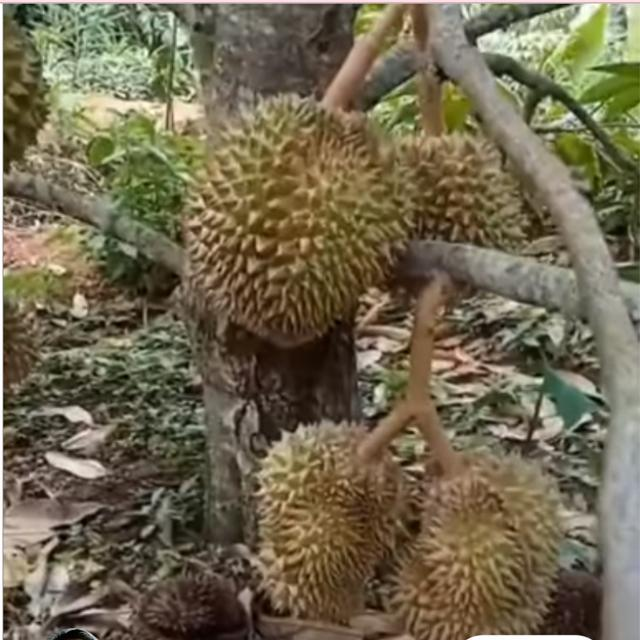mature: (179, 88, 416, 351), (396, 445, 565, 640), (250, 418, 405, 627)
